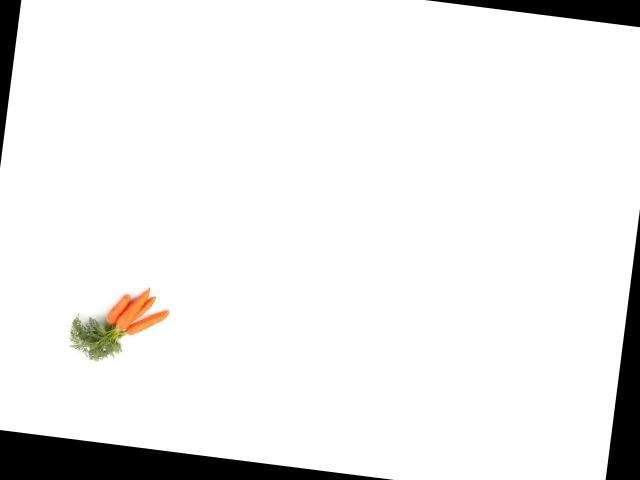carrot: (104, 291, 126, 326)
